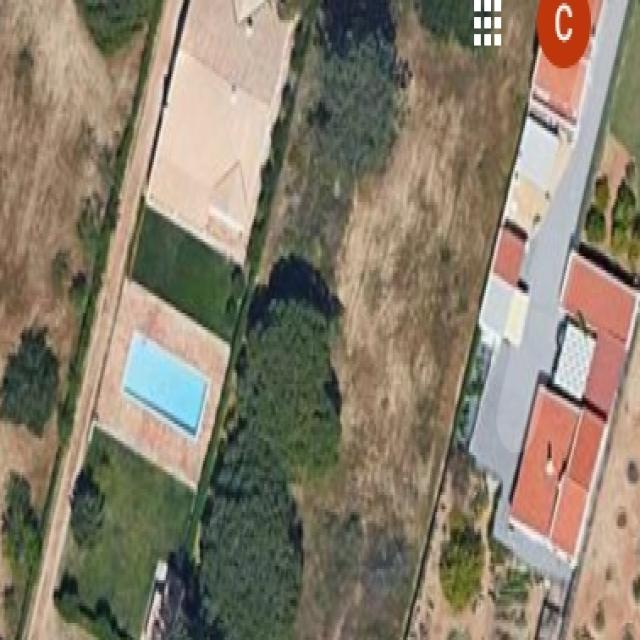pool: (88, 320, 240, 456)
